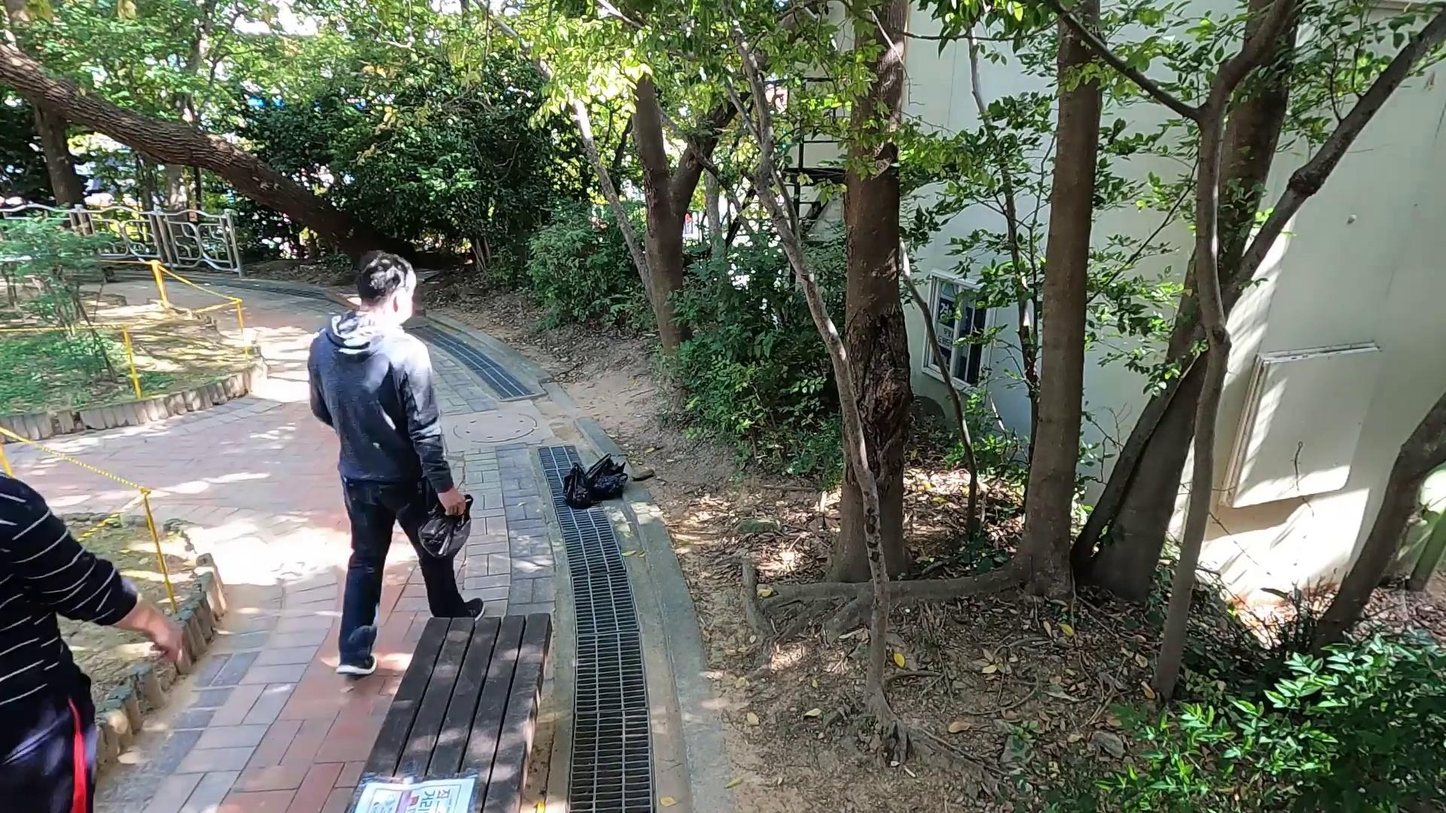person: (301, 245, 486, 679), (0, 457, 188, 813)
trash: (413, 489, 476, 559), (561, 460, 595, 509), (587, 449, 618, 489), (594, 462, 626, 500)
